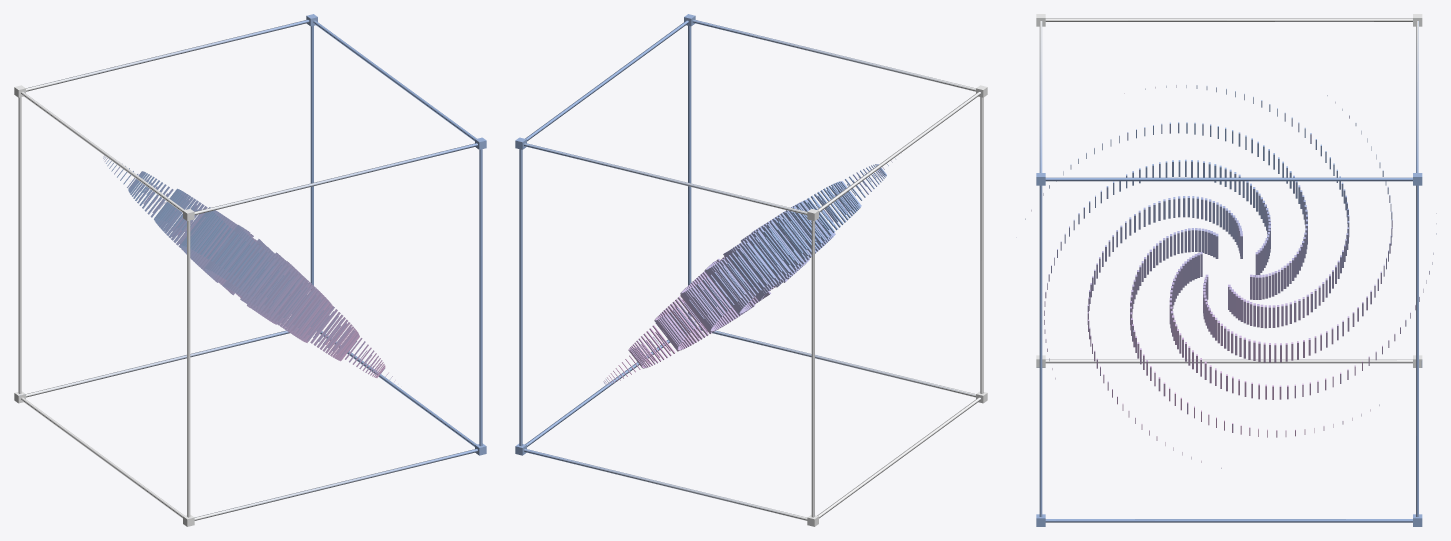
Rendered from torusInCube-pink.glb.
3 renders of one model, left to right at view 1: azimuth 30°, elevation 25°; view 2: azimuth 150°, elevation 25°; view 3: azimuth 270°, elevation 25°, orthographic. The views are drawn at different scales.
Parts seen in each view (by area): view 1: Torus, Cube; view 2: Torus, Cube; view 3: Torus, Cube.
Boxes of the visible parts, x1,y1,x2,y2 form: Torus: [103, 155, 395, 381]; Cube: [14, 14, 486, 526]; Torus: [603, 158, 895, 384]; Cube: [515, 14, 987, 526]; Torus: [1016, 85, 1436, 468]; Cube: [1036, 14, 1422, 526].
Bounding box in the file's own units: 3.68 × 3.68 × 4.
2 materials, 2 textured.
